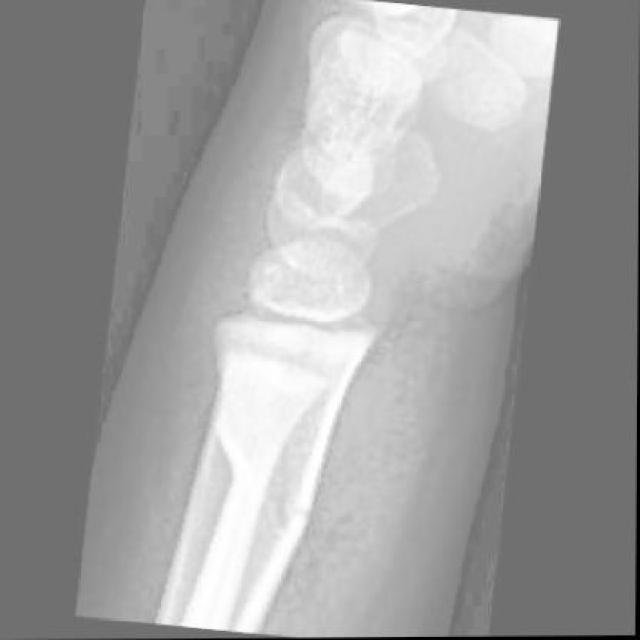Fracture: (243, 417, 341, 552)
